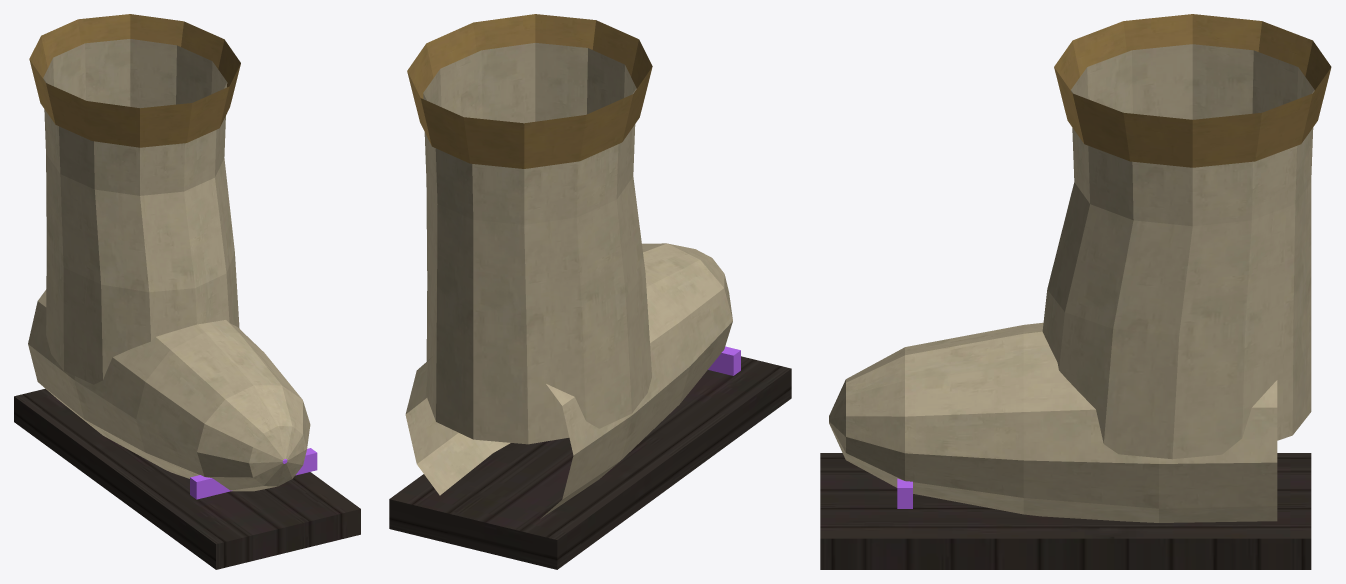
File: eq_future_3_boot.glb
3 views of the same model, side by side, from view 1: azimuth 30°, elevation 25°; view 2: azimuth 150°, elevation 25°; view 3: azimuth 270°, elevation 25° (orthographic). The views are drawn at different scales.
Parts seen in each view (by area): view 1: eq_future_3_boot; view 2: eq_future_3_boot; view 3: eq_future_3_boot.
Part boxes in pixels (<box>): eq_future_3_boot: <box>14,14,360,569</box>; eq_future_3_boot: <box>389,14,791,569</box>; eq_future_3_boot: <box>820,14,1331,569</box>.
Size of the model in its own units: 0.1598 by 0.324 by 0.3262.
Materials: 4 (3 with a texture image).
